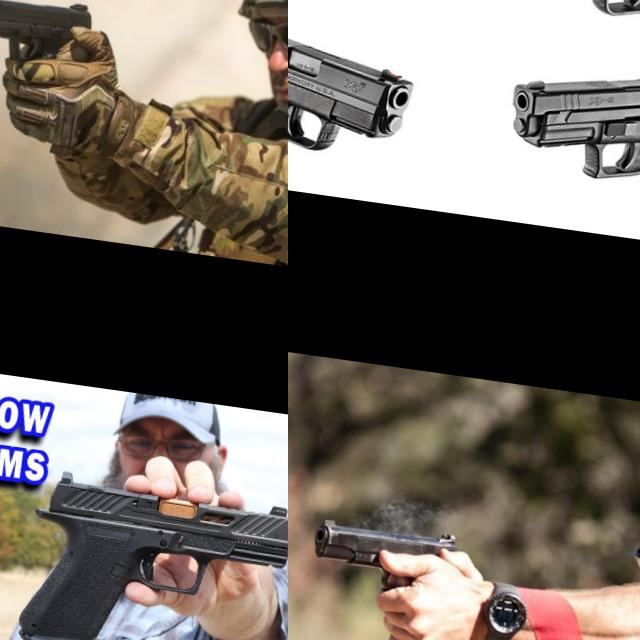handgun: (12, 463, 288, 640), (492, 41, 640, 250), (288, 5, 423, 204), (288, 0, 449, 109), (306, 512, 462, 602), (519, 0, 640, 103), (0, 0, 99, 74)
